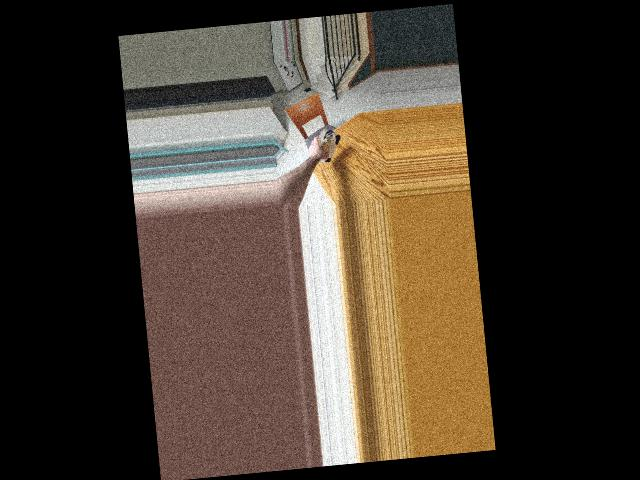cheese: (307, 127, 342, 166)
